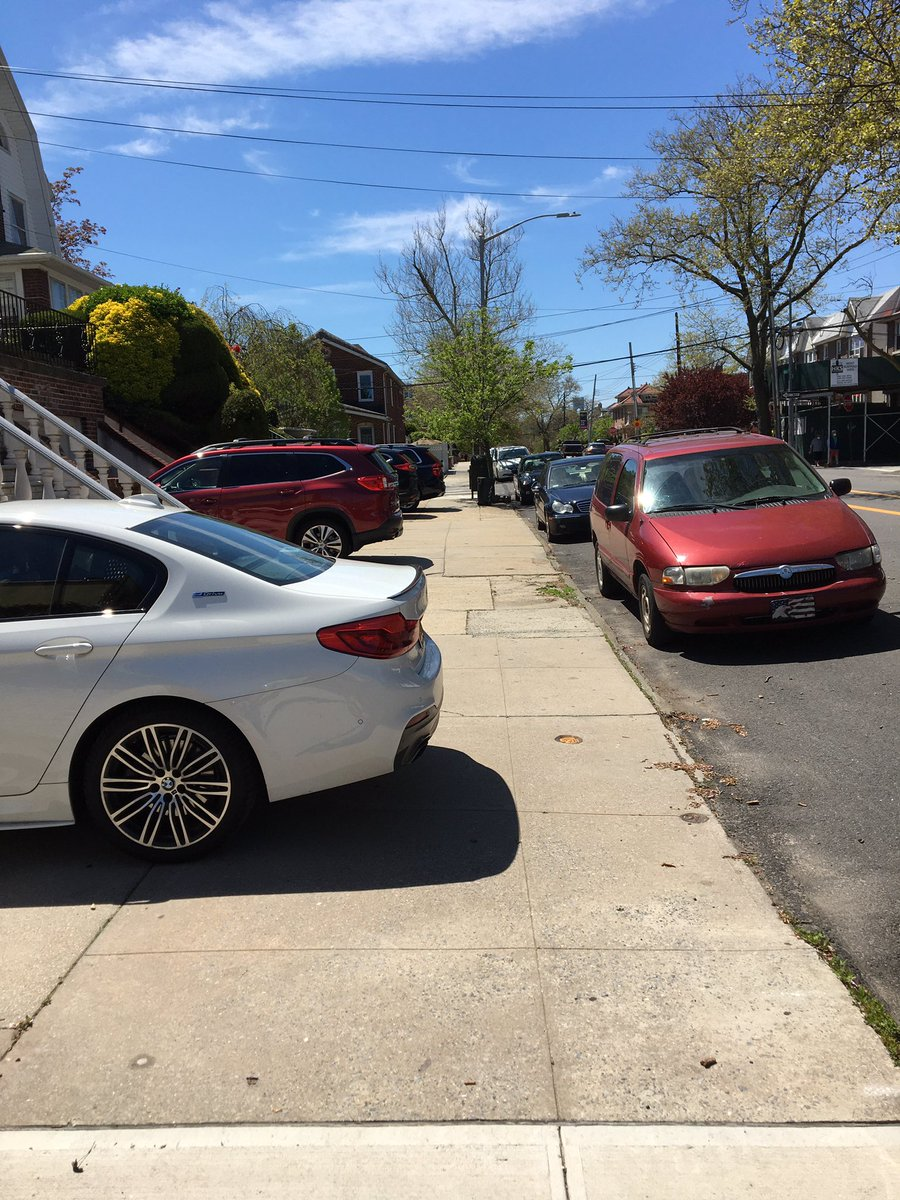building: (1, 1, 96, 340), (270, 318, 398, 438)
car: (1, 505, 485, 866), (583, 417, 887, 659), (126, 430, 405, 564)
sky: (34, 1, 820, 320)
tree: (612, 101, 875, 483), (407, 221, 566, 542)
